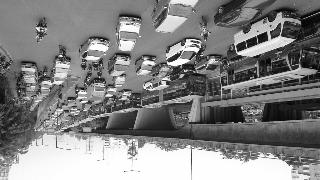mobil: (233, 13, 300, 55), (115, 13, 141, 53), (164, 39, 202, 63), (78, 36, 110, 62), (134, 54, 158, 78), (194, 54, 222, 72), (168, 64, 196, 82), (110, 54, 130, 78), (20, 62, 38, 82), (53, 56, 69, 78), (149, 63, 171, 77), (118, 88, 132, 102), (113, 74, 125, 88), (103, 86, 115, 98)
motor: (32, 15, 49, 45), (196, 15, 212, 41), (56, 44, 66, 64), (221, 58, 231, 70), (80, 56, 88, 70), (92, 56, 98, 70), (86, 64, 92, 78), (42, 66, 48, 78), (98, 60, 102, 74), (76, 84, 78, 94)
